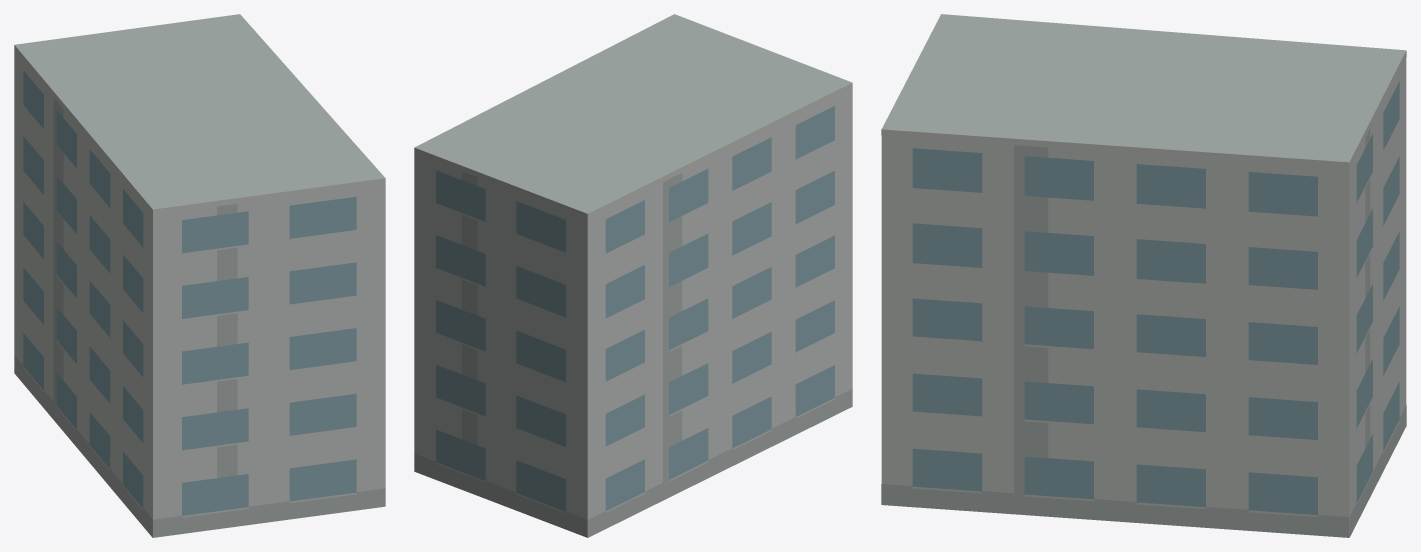
The model's file is survey-upis-32623604.glb.
3 renders of one model, left to right at view 1: azimuth 30°, elevation 25°; view 2: azimuth 150°, elevation 25°; view 3: azimuth 270°, elevation 25°, orthographic. The views are drawn at different scales.
Parts seen in each view (by area): view 1: survey-upis-32623604.tmp; view 2: survey-upis-32623604.tmp; view 3: survey-upis-32623604.tmp.
Part boxes in pixels (left/top/right/bottom): survey-upis-32623604.tmp: left=14, top=14, right=385, bottom=537; survey-upis-32623604.tmp: left=414, top=14, right=852, bottom=537; survey-upis-32623604.tmp: left=881, top=14, right=1406, bottom=537.
Size of the model in its own units: 12.12 by 14.3 by 18.13.
